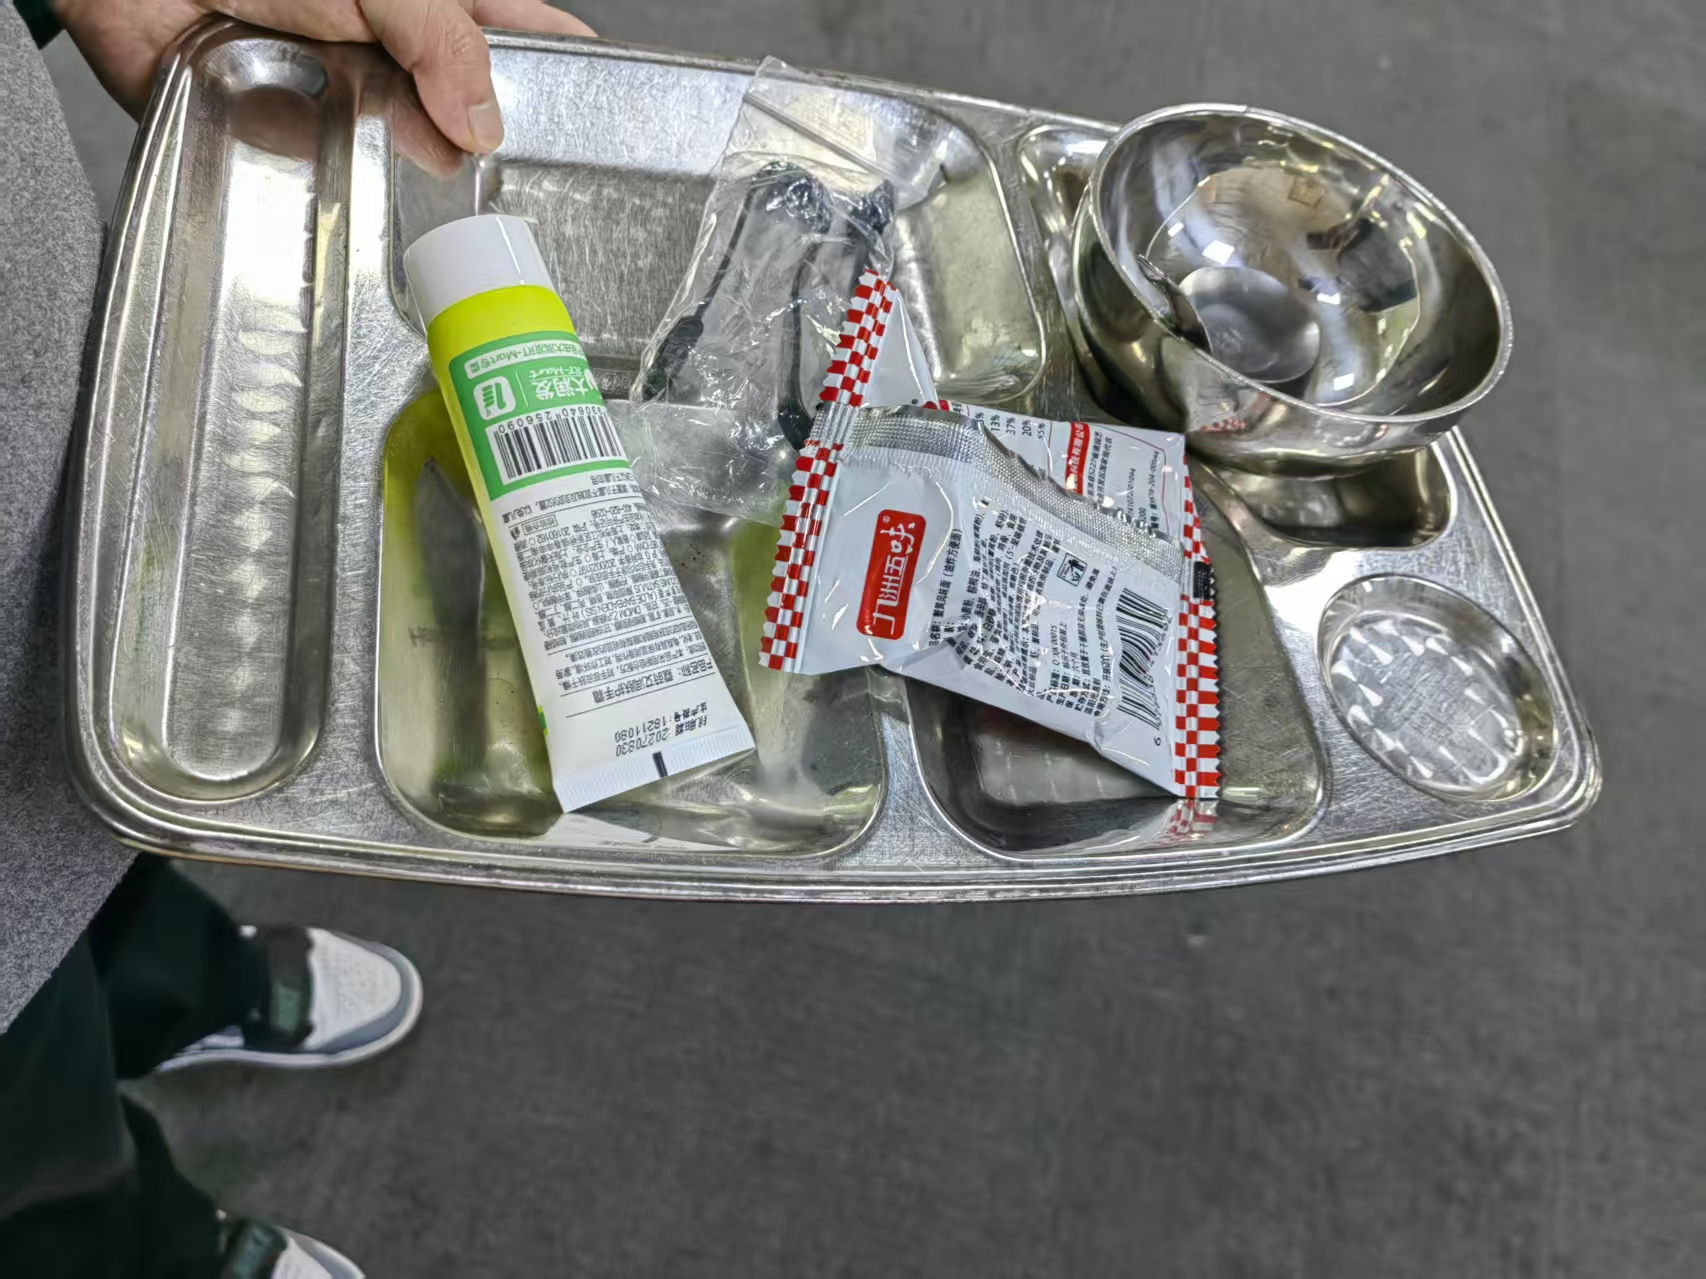moderate: (403, 74, 1225, 810)
plate: (61, 7, 1611, 902)
